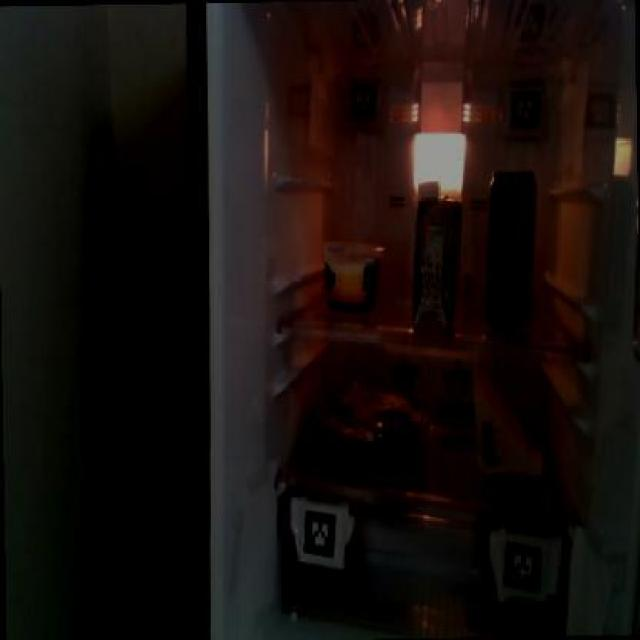bento: (312, 384, 430, 462)
energy_drink: (481, 163, 537, 326)
pudding: (319, 233, 381, 310)
sandwich: (470, 360, 548, 480)
smoothie: (407, 174, 464, 326)
